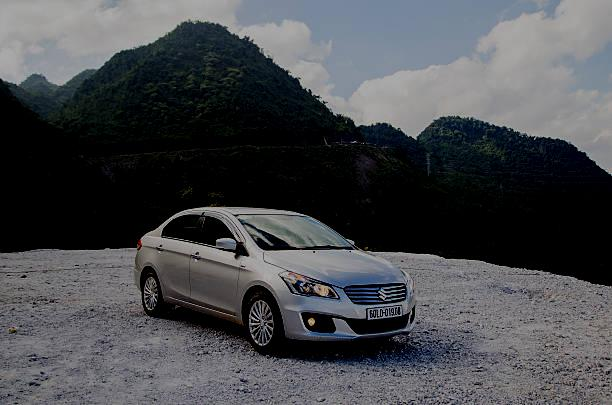suzuki: (373, 284, 395, 303)
